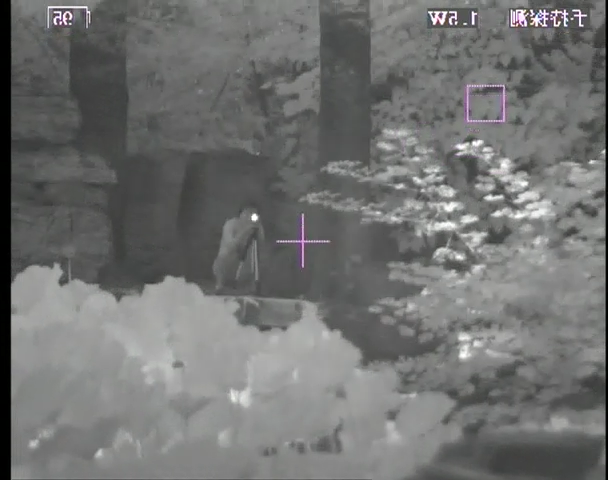my: (249, 212, 260, 224)
